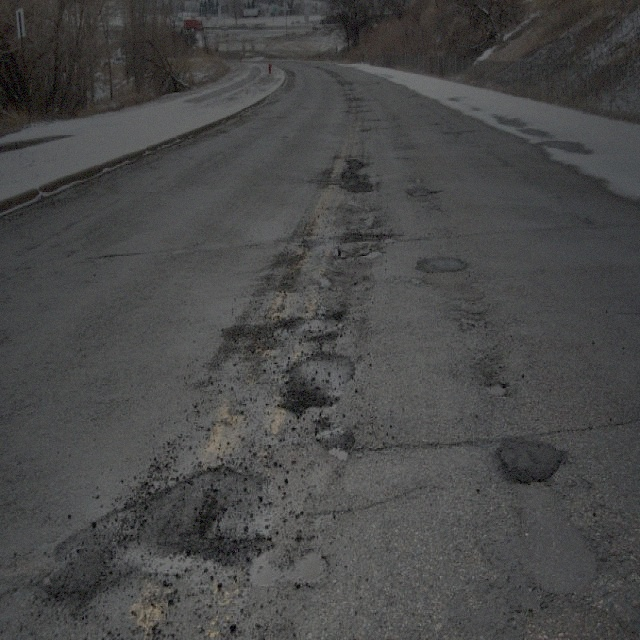pothole: (134, 456, 262, 572), (279, 347, 359, 418), (332, 228, 398, 264), (404, 179, 438, 201)
